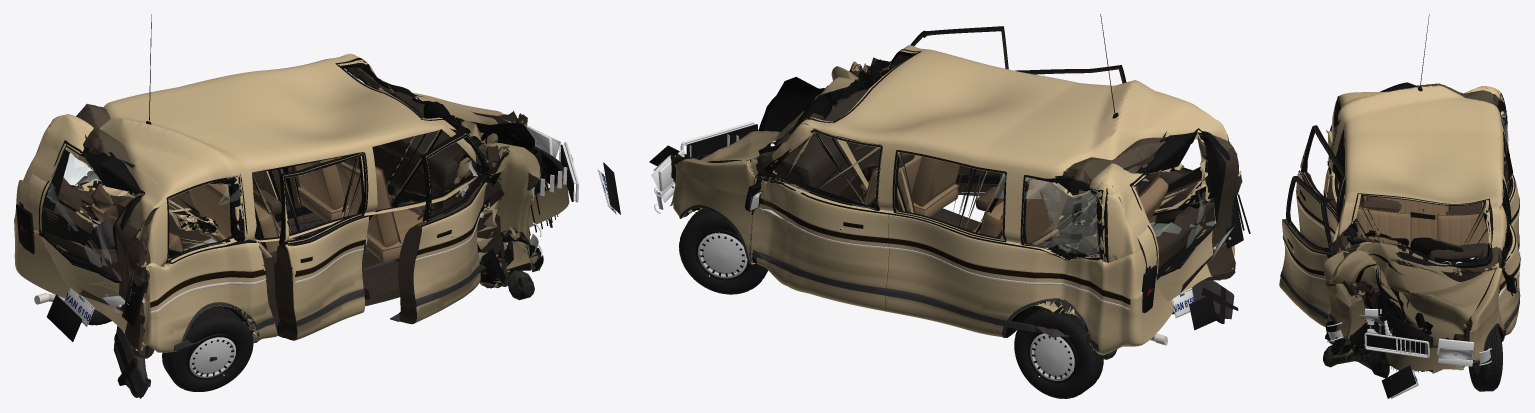
The model's file is minivan86_front_corner_R_d3.glb.
3 renders of one model, left to right at view 1: azimuth 30°, elevation 25°; view 2: azimuth 150°, elevation 25°; view 3: azimuth 270°, elevation 25°, orthographic. The views are drawn at different scales.
Visible parts, largest first — view 1: Body, Interior, Door_SR, Door_FR, Liftgate, Ends, Wheel_RR_mesh, Trim, Glass_Liftgate, Hood, Trim_FR, Trim_SR (+5 smaller); view 2: Body, Door_FL, Interior, Trim, Liftgate, Wheel_RL_mesh, Glass, Wheel_FL_mesh, Ends, Hood, Trim_FL, Glass_Liftgate (+4 smaller); view 3: Body, Hood, Interior, Door_FR, Ends, Door_SR, Glass, Trim, Engine, Door_FL, Wheel_FL_mesh, Trim_FR (+3 smaller).
Boxes of the visible parts, <box> form: Body: <box>14,53,569,358</box>; Interior: <box>91,74,461,308</box>; Door_SR: <box>274,152,368,340</box>; Door_FR: <box>398,128,491,324</box>; Liftgate: <box>26,115,169,311</box>; Ends: <box>16,126,620,341</box>; Wheel_RR_mesh: <box>162,308,253,391</box>; Trim: <box>76,14,552,351</box>; Glass_Liftgate: <box>38,140,144,283</box>; Hood: <box>416,96,540,190</box>; Trim_FR: <box>390,133,501,321</box>; Trim_SR: <box>275,153,368,337</box>; Body: <box>670,45,1242,355</box>; Door_FL: <box>750,128,889,311</box>; Interior: <box>767,89,1168,254</box>; Trim: <box>679,14,1130,353</box>; Liftgate: <box>1096,110,1238,300</box>; Wheel_RL_mesh: <box>1014,307,1103,398</box>; Glass: <box>758,49,1112,262</box>; Wheel_FL_mesh: <box>679,208,768,294</box>; Ends: <box>649,121,1250,330</box>; Hood: <box>699,66,860,210</box>; Trim_FL: <box>745,129,889,295</box>; Glass_Liftgate: <box>1130,128,1229,279</box>; Body: <box>1323,83,1519,371</box>; Hood: <box>1326,242,1495,373</box>; Interior: <box>1356,196,1488,263</box>; Door_FR: <box>1279,176,1334,326</box>; Ends: <box>1327,308,1491,398</box>; Door_SR: <box>1296,125,1344,248</box>; Glass: <box>1329,97,1511,268</box>; Trim: <box>1323,14,1519,370</box>; Engine: <box>1362,288,1433,372</box>; Door_FL: <box>1498,179,1519,335</box>; Wheel_FL_mesh: <box>1468,325,1502,391</box>; Trim_FR: <box>1280,177,1333,321</box>.
Size of the model in its own units: 4.37 by 2.57 by 2.16.
33 materials, 5 textured.
